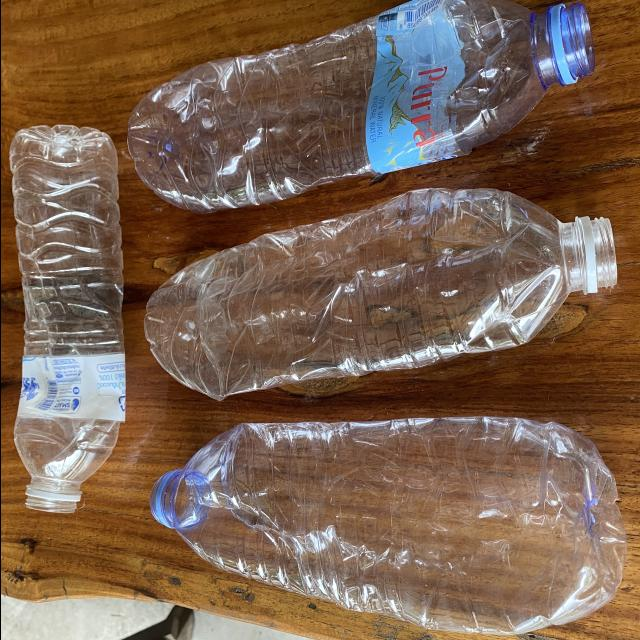plastik: (149, 417, 626, 634), (144, 189, 617, 400), (127, 0, 593, 212), (9, 124, 124, 512)
